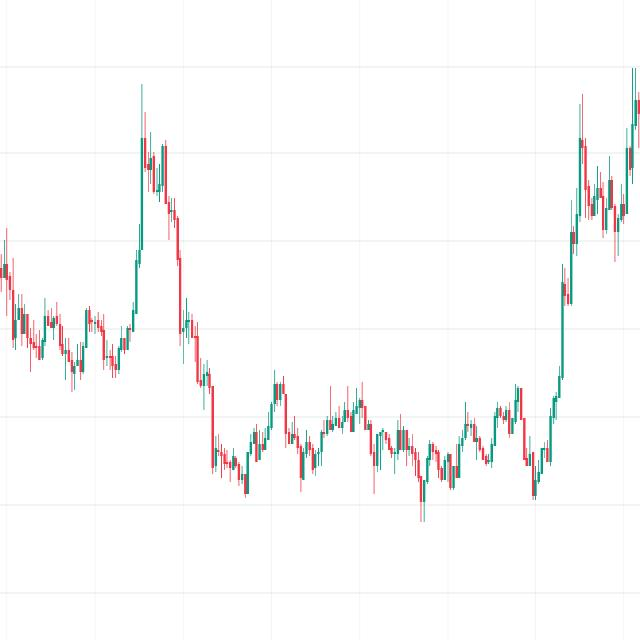Triple-Bottom: (17, 290, 138, 392), (583, 168, 635, 248)
